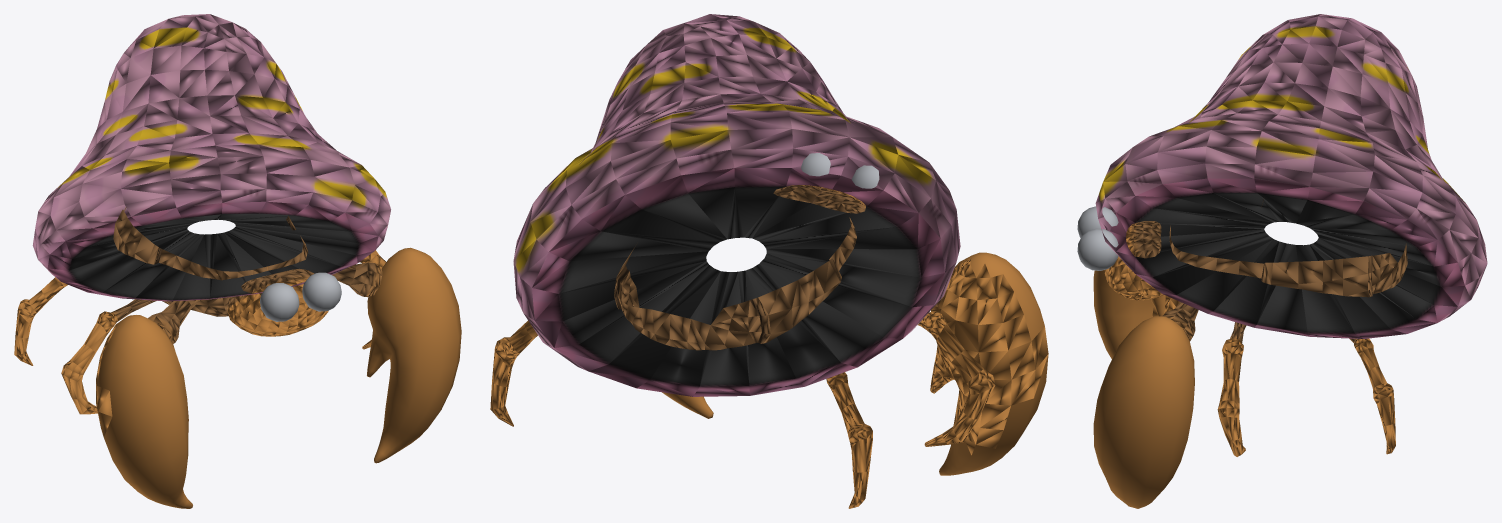
Rendered from 047 Parasect-1.gltf.
3 renders of one model, left to right at view 1: azimuth 30°, elevation 25°; view 2: azimuth 150°, elevation 25°; view 3: azimuth 270°, elevation 25°, orthographic. The views are drawn at different scales.
Visible parts, largest first — view 1: Parasect; view 2: Parasect; view 3: Parasect.
Boxes of the visible parts, x1,y1,x2,y2 form: Parasect: (14,14,461,508); Parasect: (490,14,1048,508); Parasect: (1077,14,1487,508).
Bounding box in the file's own units: 289 × 312 × 268.
3 materials, 3 textured.
